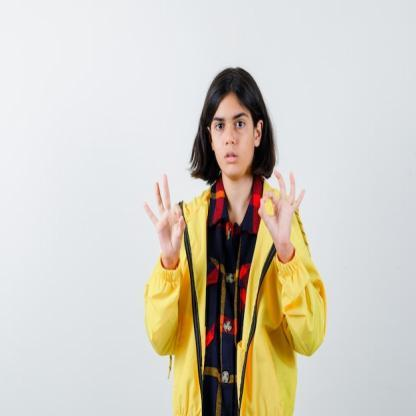ok: (142, 171, 188, 268), (258, 168, 306, 259)
